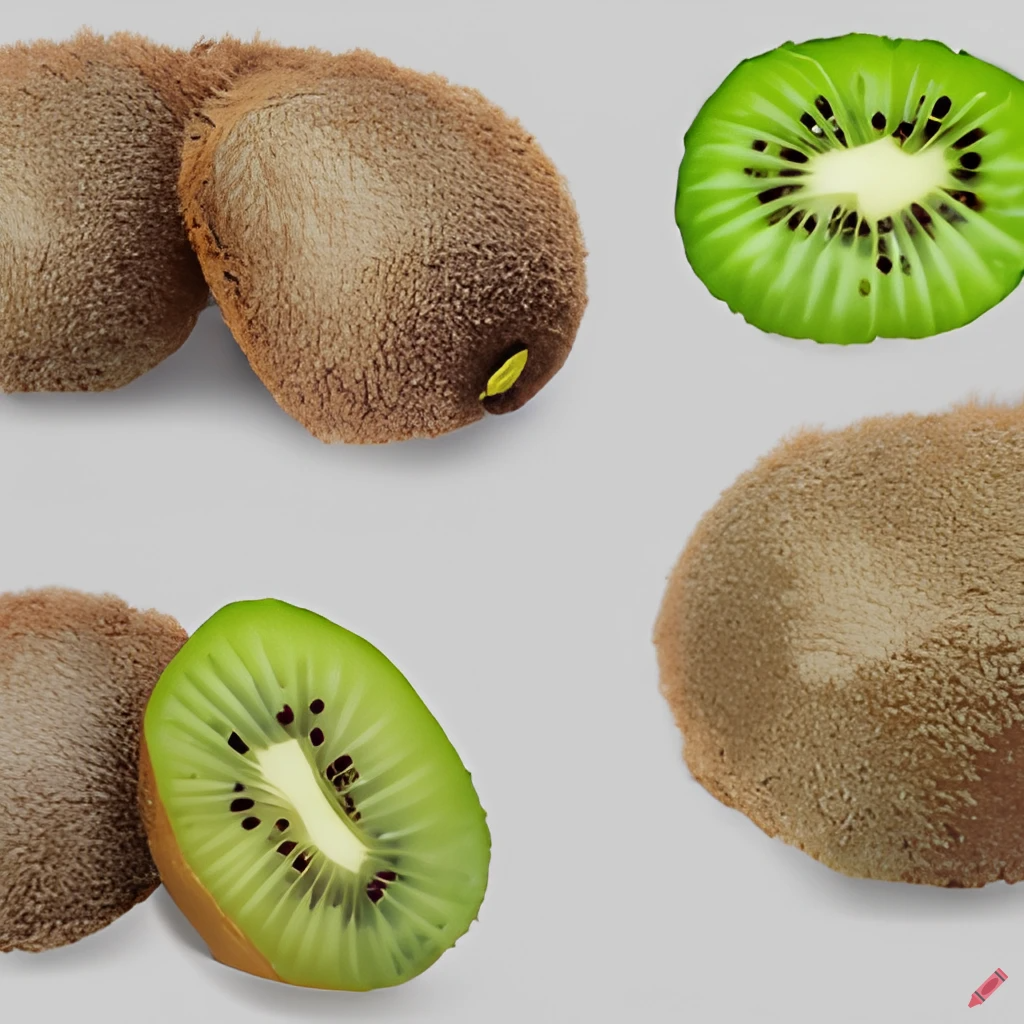Kiwi: (641, 383, 1016, 914), (179, 14, 590, 476)
